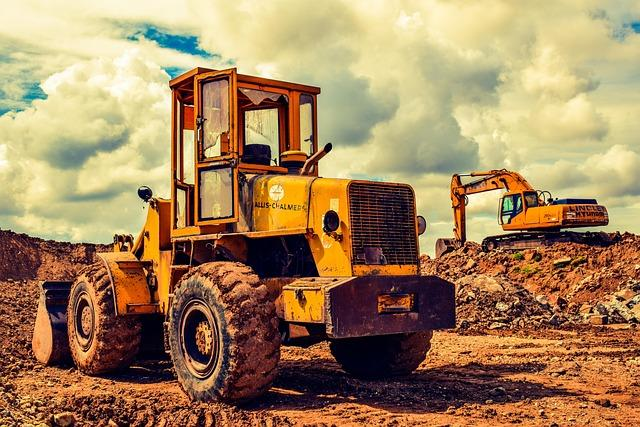Non_Gorille: (20, 5, 640, 427)
